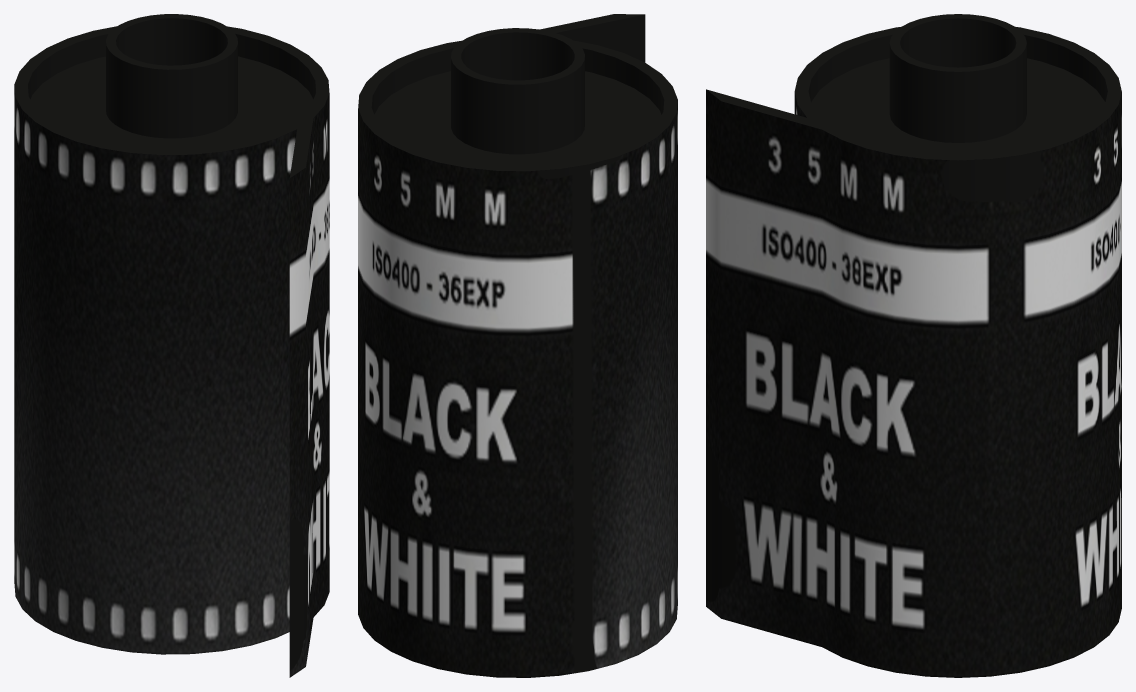
Rendered from RollitoPrimavera.fbx.
3 views of the same model, side by side, from view 1: azimuth 30°, elevation 25°; view 2: azimuth 150°, elevation 25°; view 3: azimuth 270°, elevation 25° (orthographic). The views are drawn at different scales.
Parts seen in each view (by area): view 1: Cylinder; view 2: Cylinder; view 3: Cylinder.
Boxes of the visible parts, <box> form: Cylinder: <box>14,14,329,677</box>; Cylinder: <box>358,14,677,677</box>; Cylinder: <box>706,14,1121,677</box>.
Bounding box in the file's own units: 13.19 × 25.17 × 16.76.
